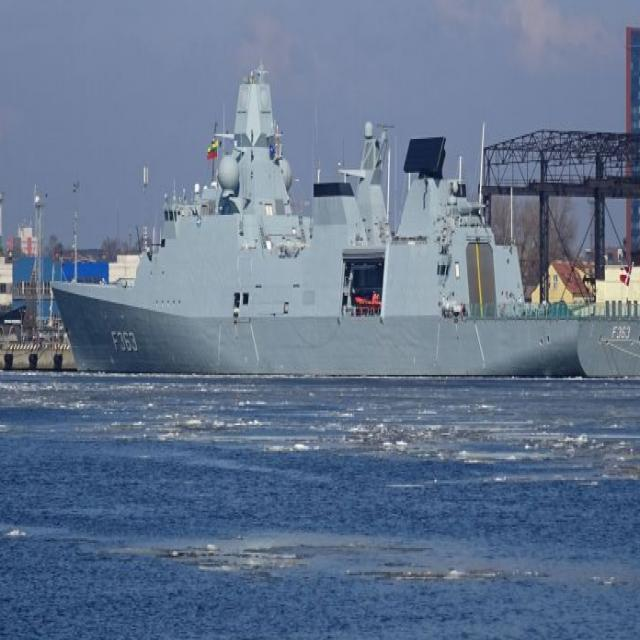Fragata: (48, 56, 640, 386)
